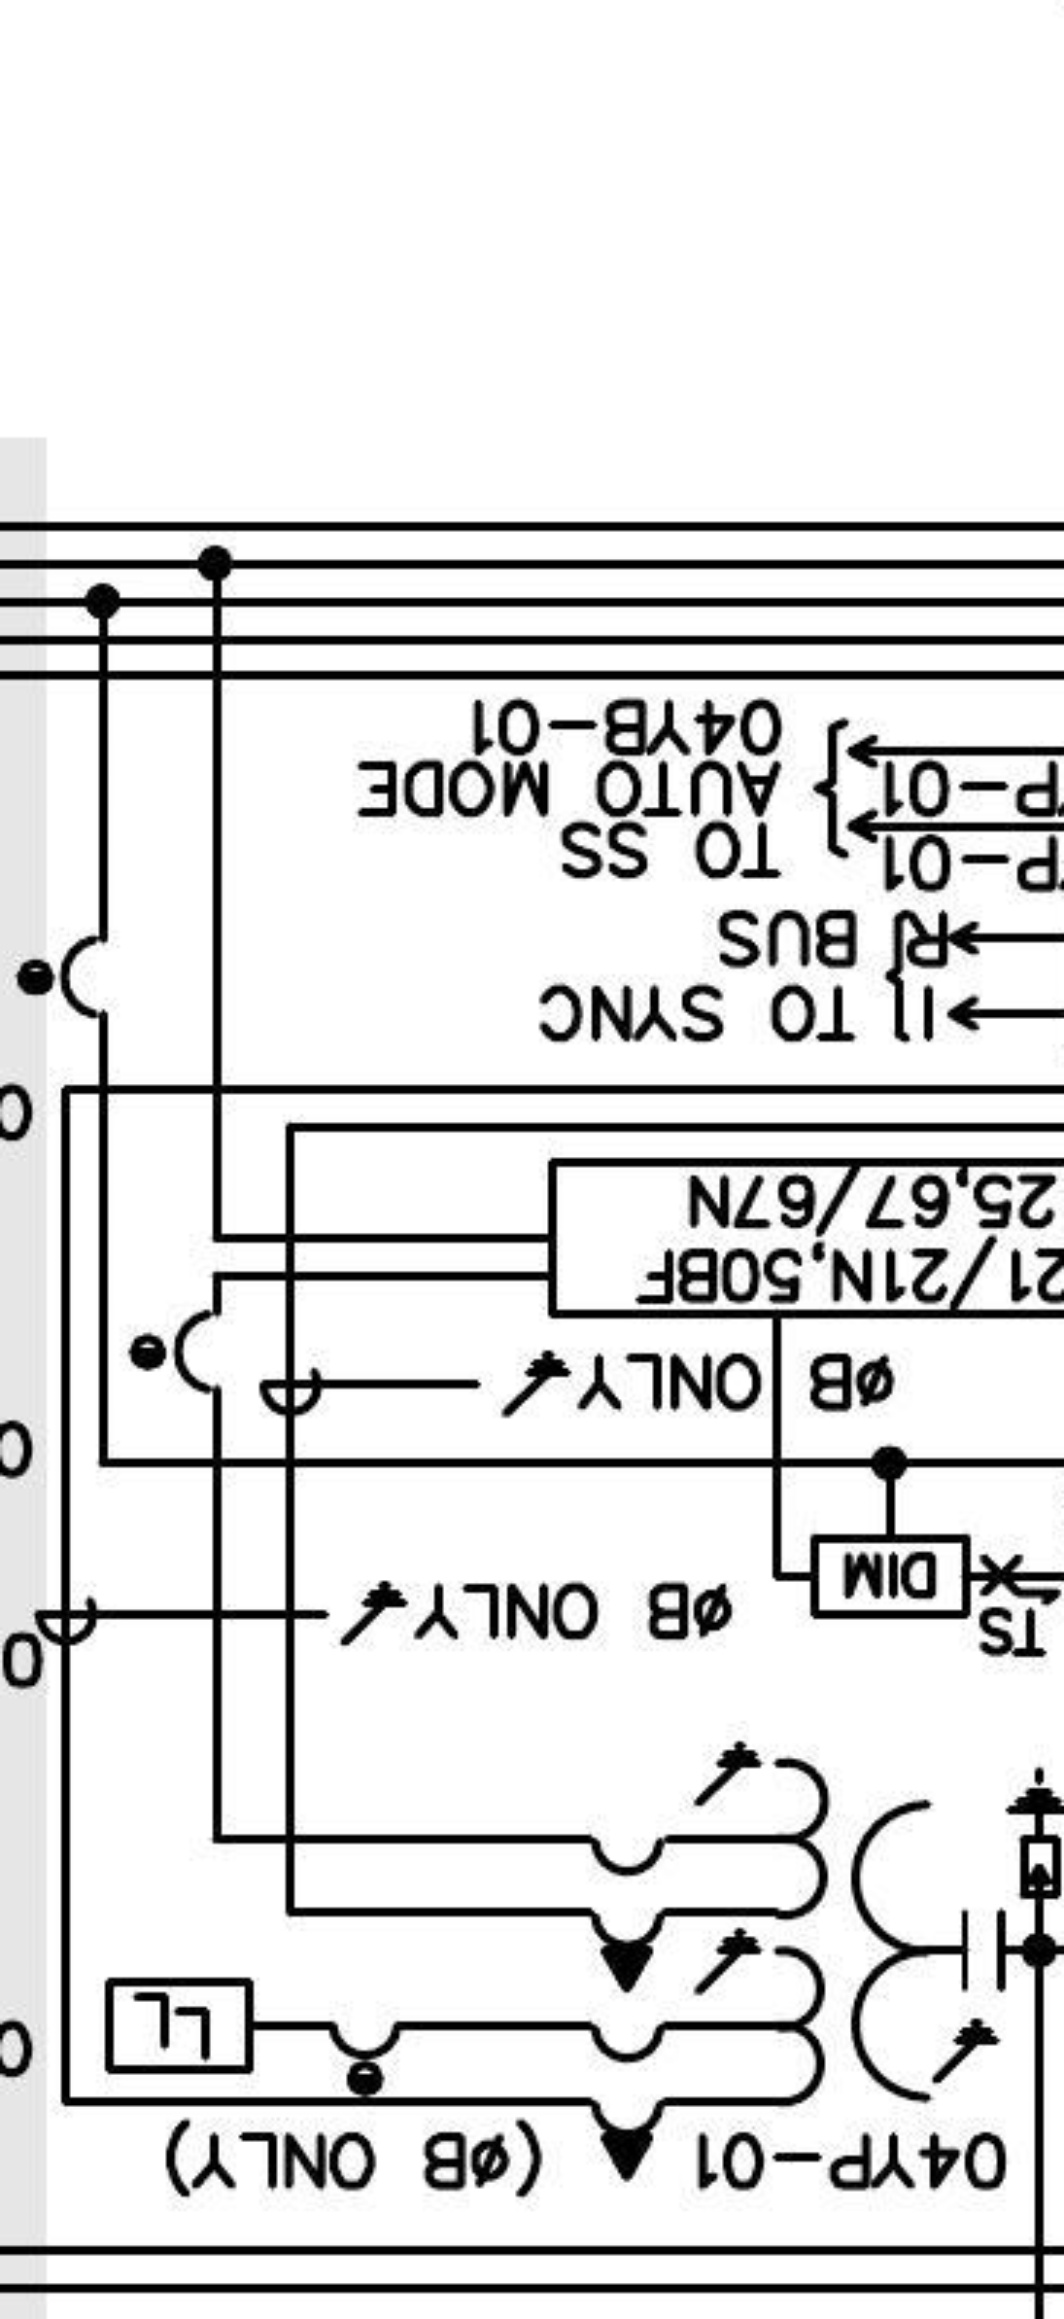115_cvt_1p: (583, 1737, 1008, 2183)
DIM: (811, 1533, 970, 1619)
LL: (104, 1976, 254, 2074)
